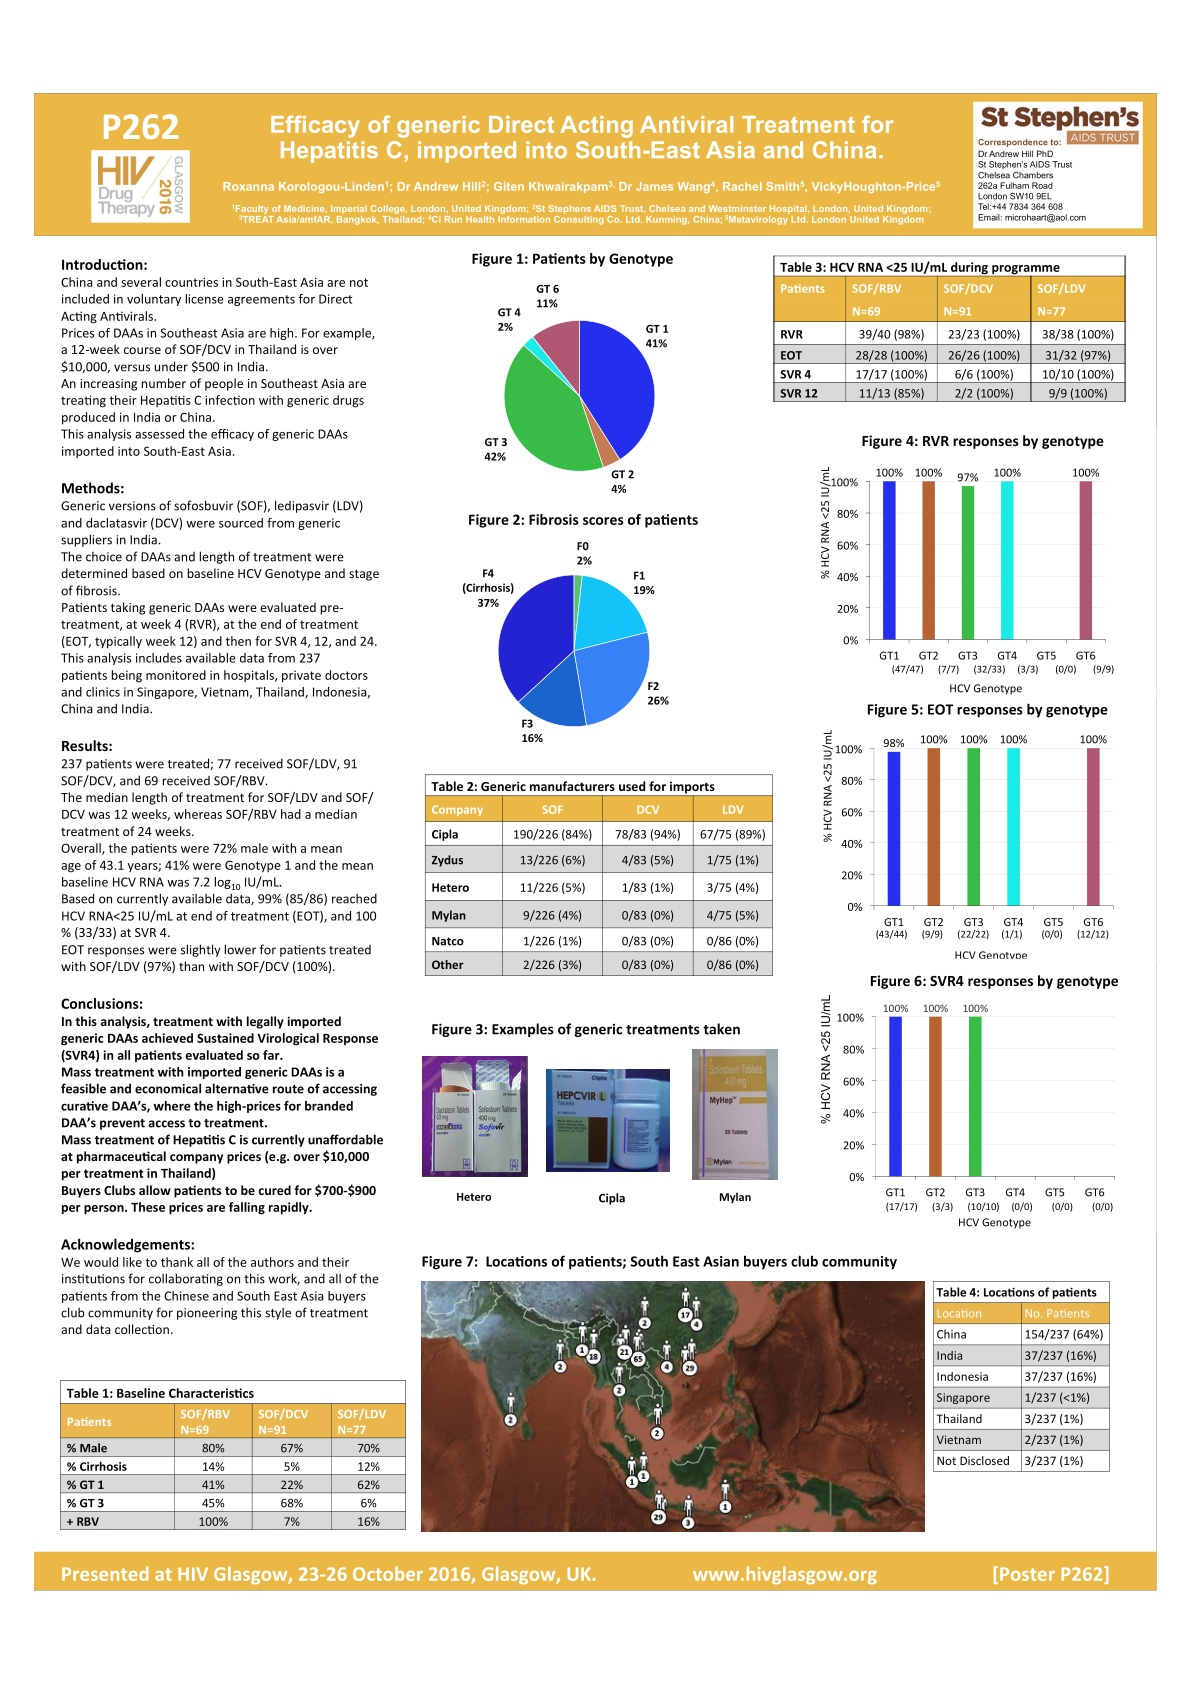merged_cells: (424, 773, 772, 977), (772, 254, 1125, 402), (59, 1379, 405, 1529), (931, 1278, 1112, 1473)
